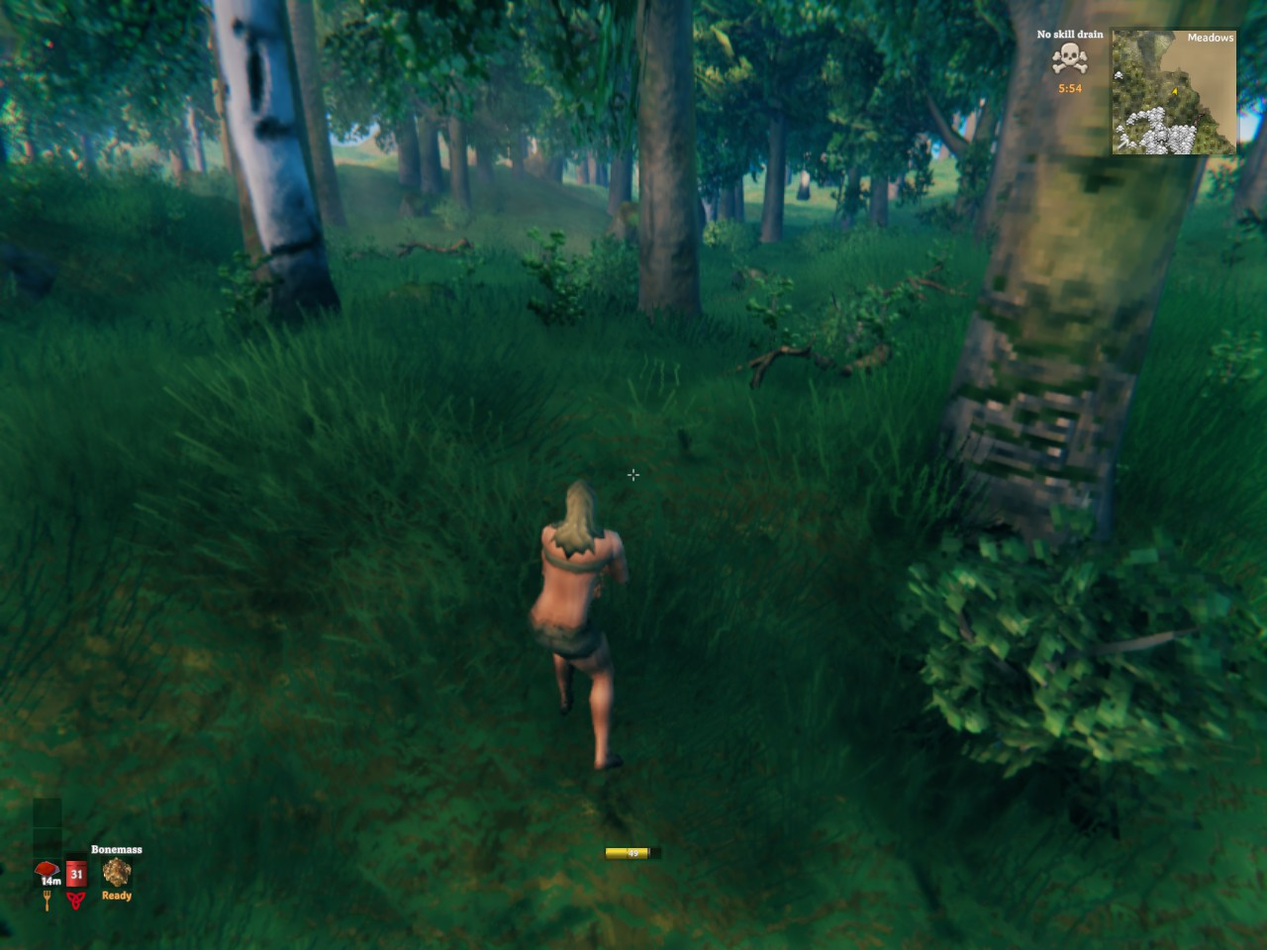Branch: (735, 342, 892, 389), (397, 238, 473, 256), (346, 250, 387, 258)
